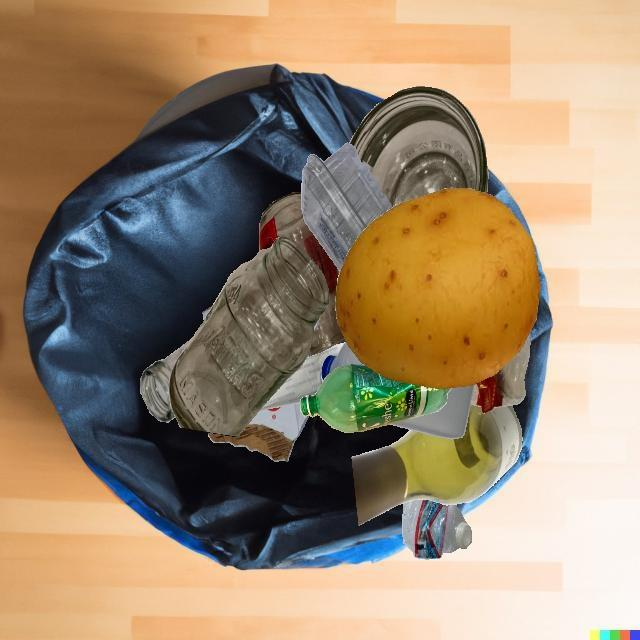biowaste: (335, 188, 541, 389)
cardboard: (210, 311, 308, 411)
glass: (169, 236, 328, 437), (351, 404, 522, 526), (349, 86, 488, 208), (259, 192, 346, 356), (140, 339, 191, 422)
paper: (259, 343, 345, 411)
plastic: (301, 142, 392, 273), (300, 364, 452, 433), (470, 335, 530, 414), (390, 384, 474, 439), (402, 500, 472, 559), (321, 342, 365, 381), (209, 311, 210, 311)
